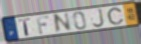0: (72, 11, 88, 31)
C: (107, 7, 126, 26)
F: (35, 15, 50, 35)
J: (92, 8, 106, 29)
N: (53, 11, 73, 34)
T: (17, 17, 32, 37)
